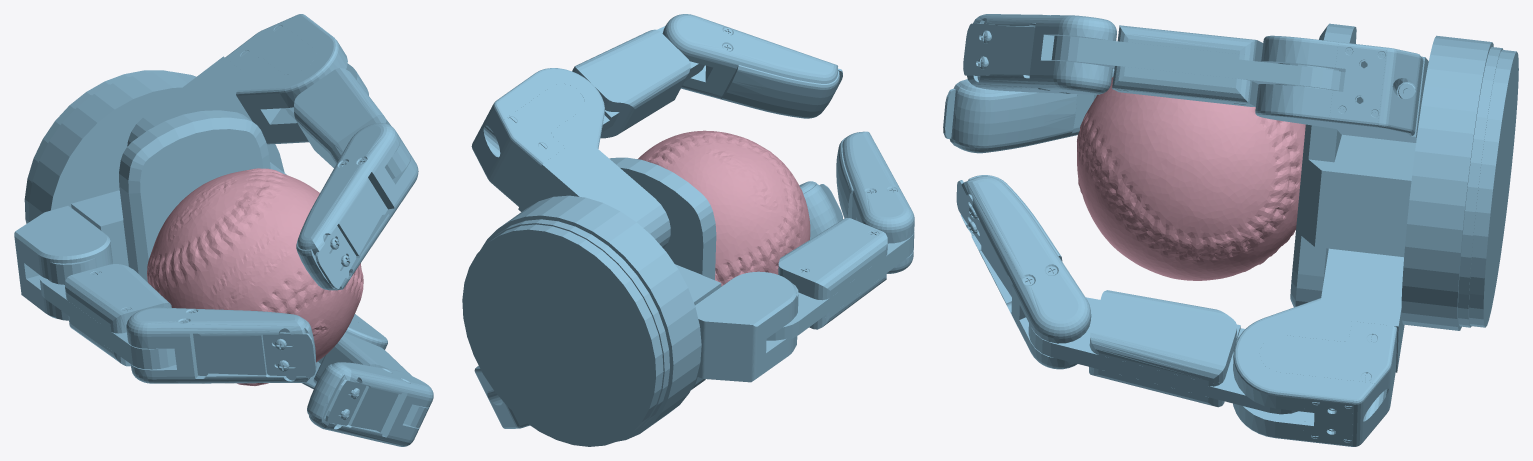
3 views of the same model, side by side, from view 1: azimuth 30°, elevation 25°; view 2: azimuth 150°, elevation 25°; view 3: azimuth 270°, elevation 25° (orthographic). The views are drawn at different scales.
Parts seen in each view (by area): view 1: world, baseball.stl; view 2: world, baseball.stl; view 3: world, baseball.stl.
Boxes of the visible parts, left/top/right/bottom form: world: left=14, top=14, right=433, bottom=446; baseball.stl: left=147, top=168, right=363, bottom=385; world: left=462, top=14, right=914, bottom=446; baseball.stl: left=637, top=130, right=810, bottom=286; world: left=943, top=14, right=1518, bottom=446; baseball.stl: left=1077, top=76, right=1305, bottom=280.
Bounding box in the file's own units: 0.134 × 0.1352 × 0.176.
